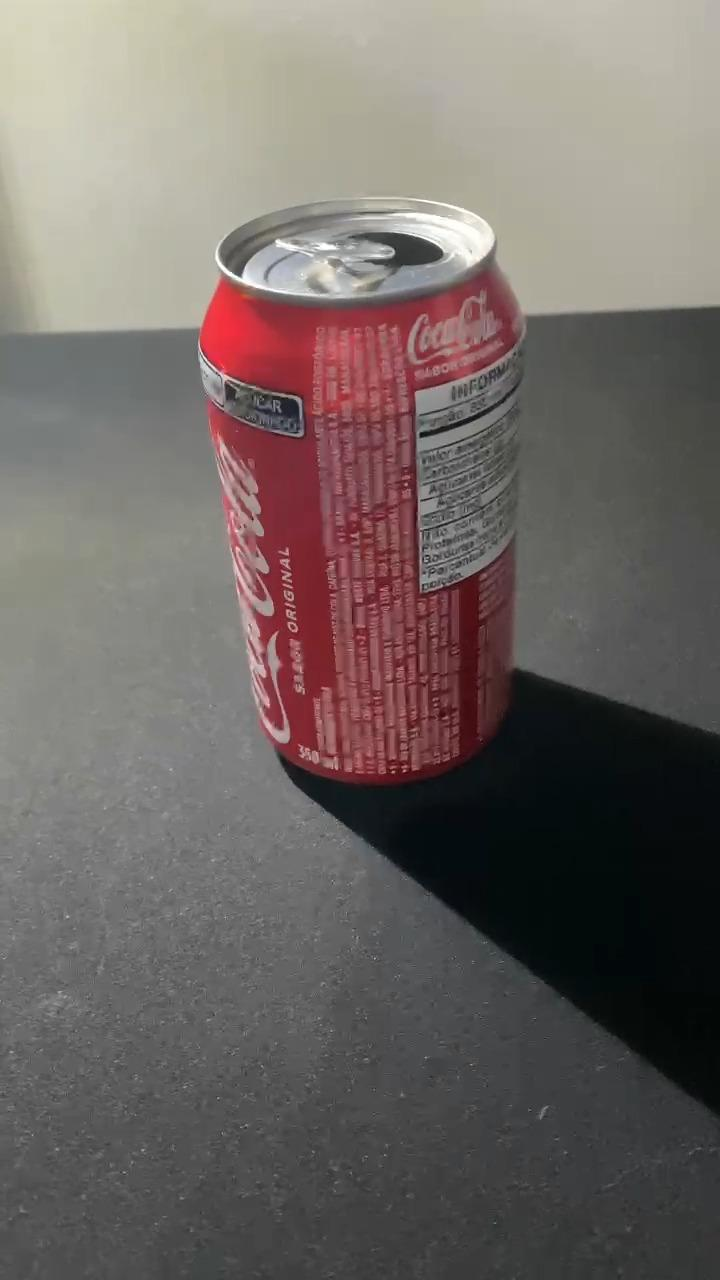coke: (197, 200, 523, 775)
